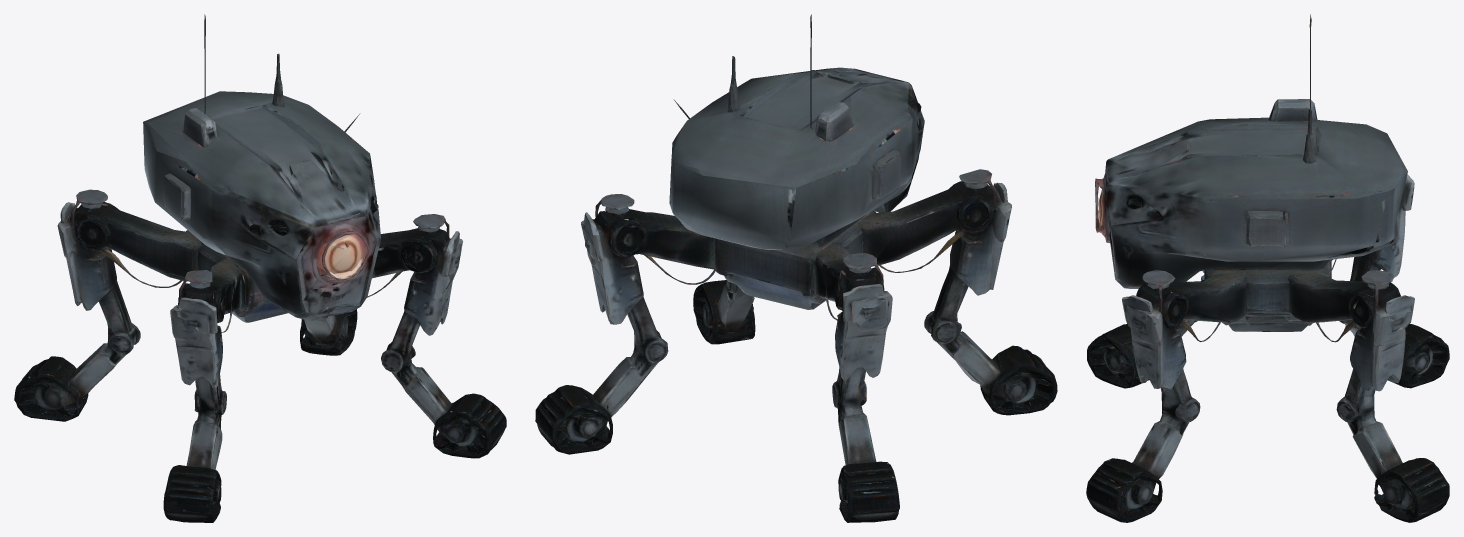
Rendered from tech.glb.
3 renders of one model, left to right at view 1: azimuth 30°, elevation 25°; view 2: azimuth 150°, elevation 25°; view 3: azimuth 270°, elevation 25°, orthographic. The views are drawn at different scales.
Visible parts, largest first — view 1: Mesh; view 2: Mesh; view 3: Mesh.
Boxes of the visible parts, left/top/right/bottom form: Mesh: left=14, top=14, right=506, bottom=522; Mesh: left=535, top=14, right=1057, bottom=522; Mesh: left=1086, top=14, right=1449, bottom=522.
Size of the model in its own units: 1.91 by 2.19 by 1.74.
Materials: 1 (1 with a texture image).
